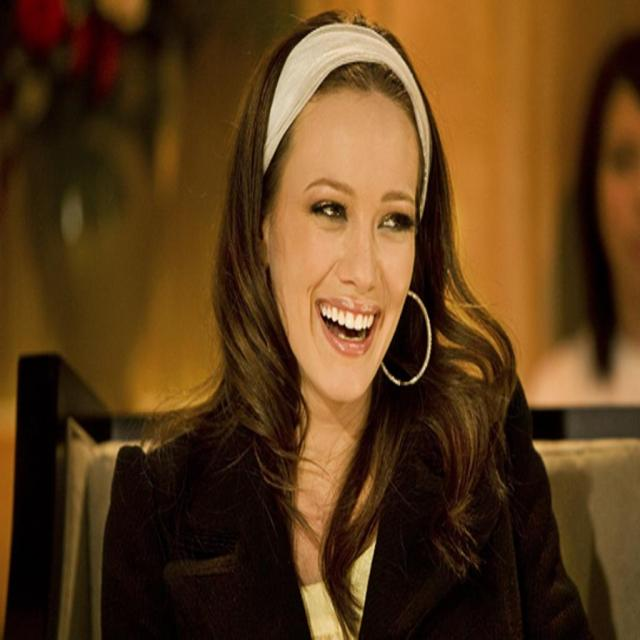Face: (272, 82, 441, 378)
